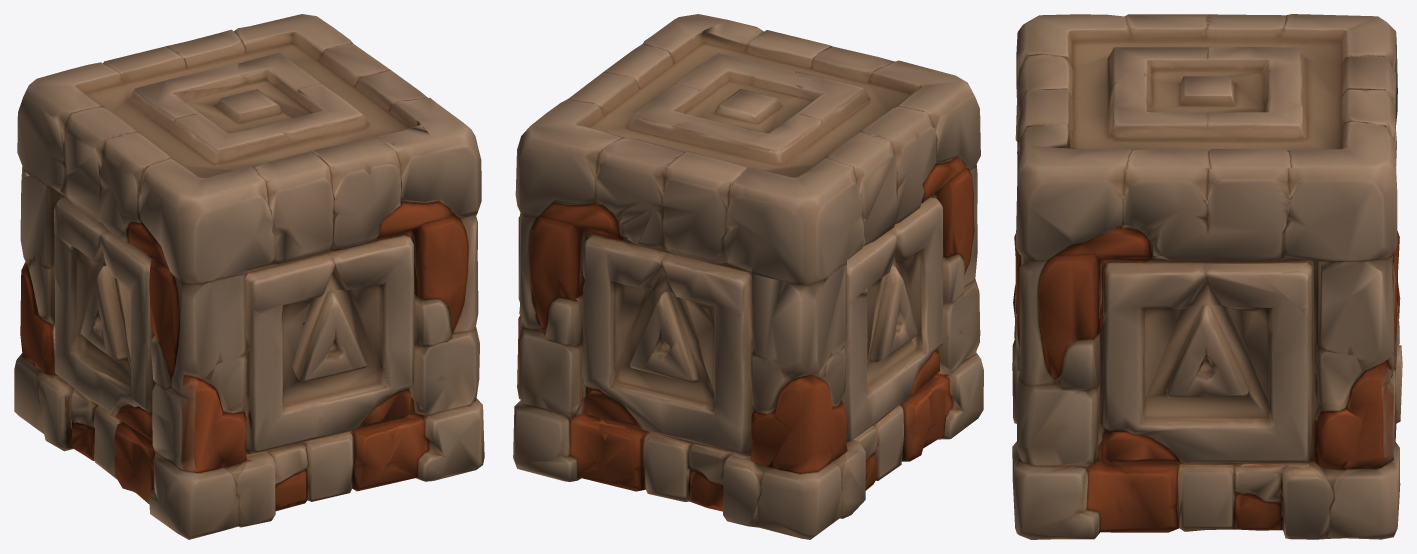
File: bloque_de_piedra_volcanico.glb
3 views of the same model, side by side, from view 1: azimuth 30°, elevation 25°; view 2: azimuth 150°, elevation 25°; view 3: azimuth 270°, elevation 25° (orthographic). The views are drawn at different scales.
Visible parts, largest first — view 1: bloque_de_piedra_volcanico; view 2: bloque_de_piedra_volcanico; view 3: bloque_de_piedra_volcanico.
Boxes of the visible parts, x1,y1,x2,y2 form: bloque_de_piedra_volcanico: (14,14,484,539); bloque_de_piedra_volcanico: (513,14,983,539); bloque_de_piedra_volcanico: (1012,14,1402,539).
Size of what is drawn, in the model's own units: 0.942 by 0.9981 by 0.9419.
Materials: 1 (1 with a texture image).
